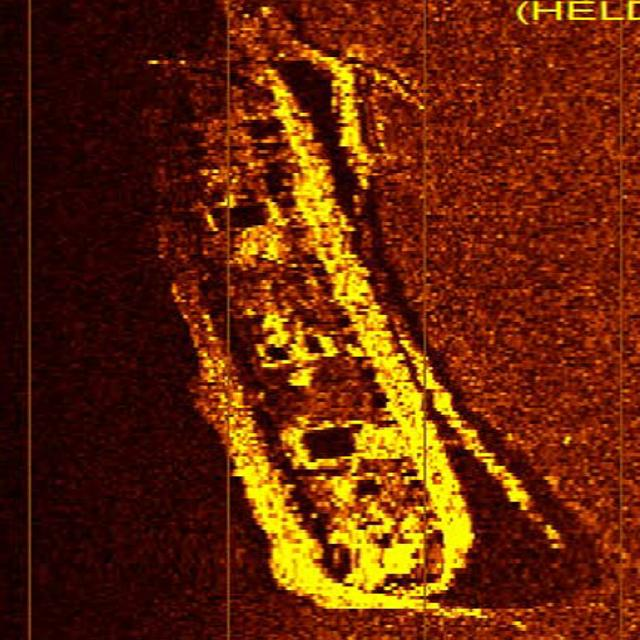ship: (132, 51, 518, 614)
